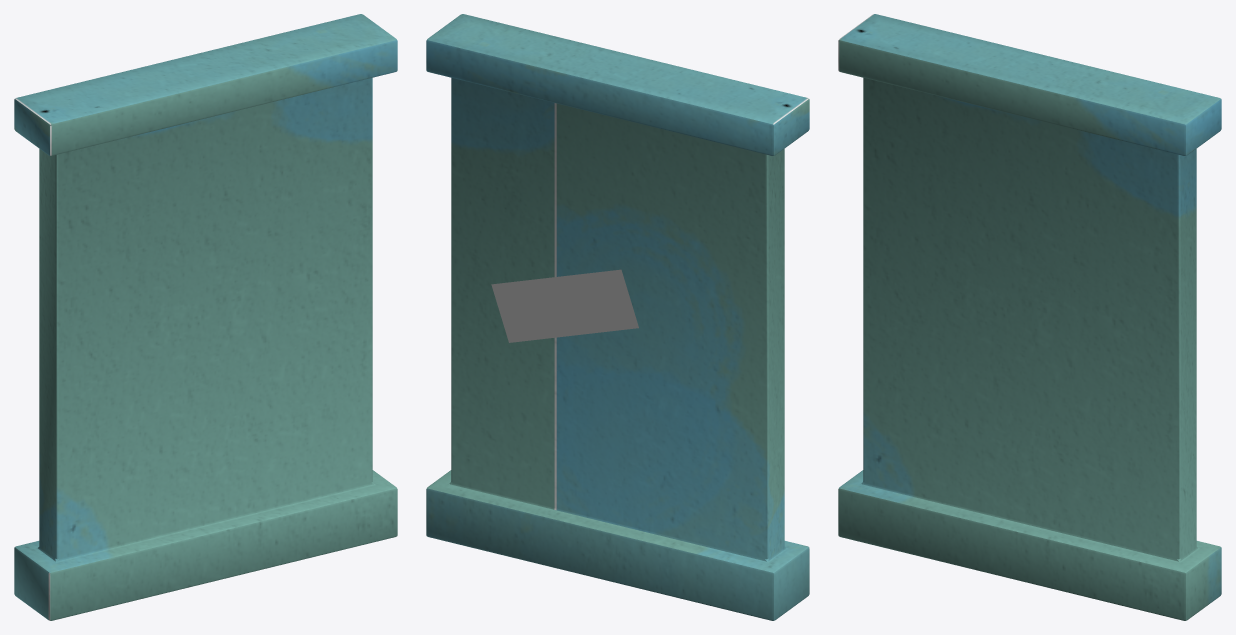
Rendered from TOMB_WALL_2_001.obj.
3 renders of one model, left to right at view 1: azimuth 30°, elevation 25°; view 2: azimuth 150°, elevation 25°; view 3: azimuth 330°, elevation 25°, orthographic.
Visible parts, largest first — view 1: TOMB_WALL_2_001; view 2: TOMB_WALL_2_001; view 3: TOMB_WALL_2_001.
Part boxes in pixels (x1=…): TOMB_WALL_2_001: x1=14, y1=14, x2=397, y2=620; TOMB_WALL_2_001: x1=426, y1=14, x2=809, y2=620; TOMB_WALL_2_001: x1=838, y1=14, x2=1221, y2=620.
Bounding box in the file's own units: 2.2 × 3 × 0.4.
